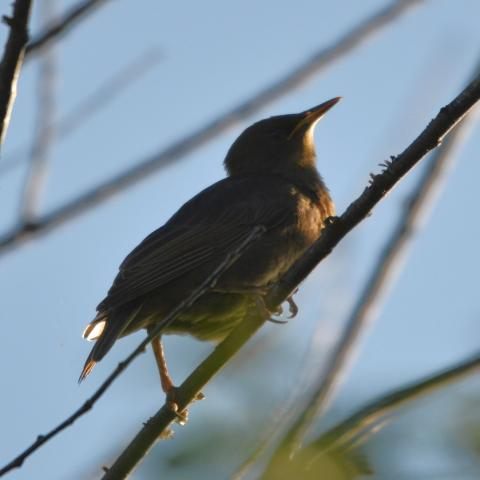bird: (76, 95, 344, 386)
